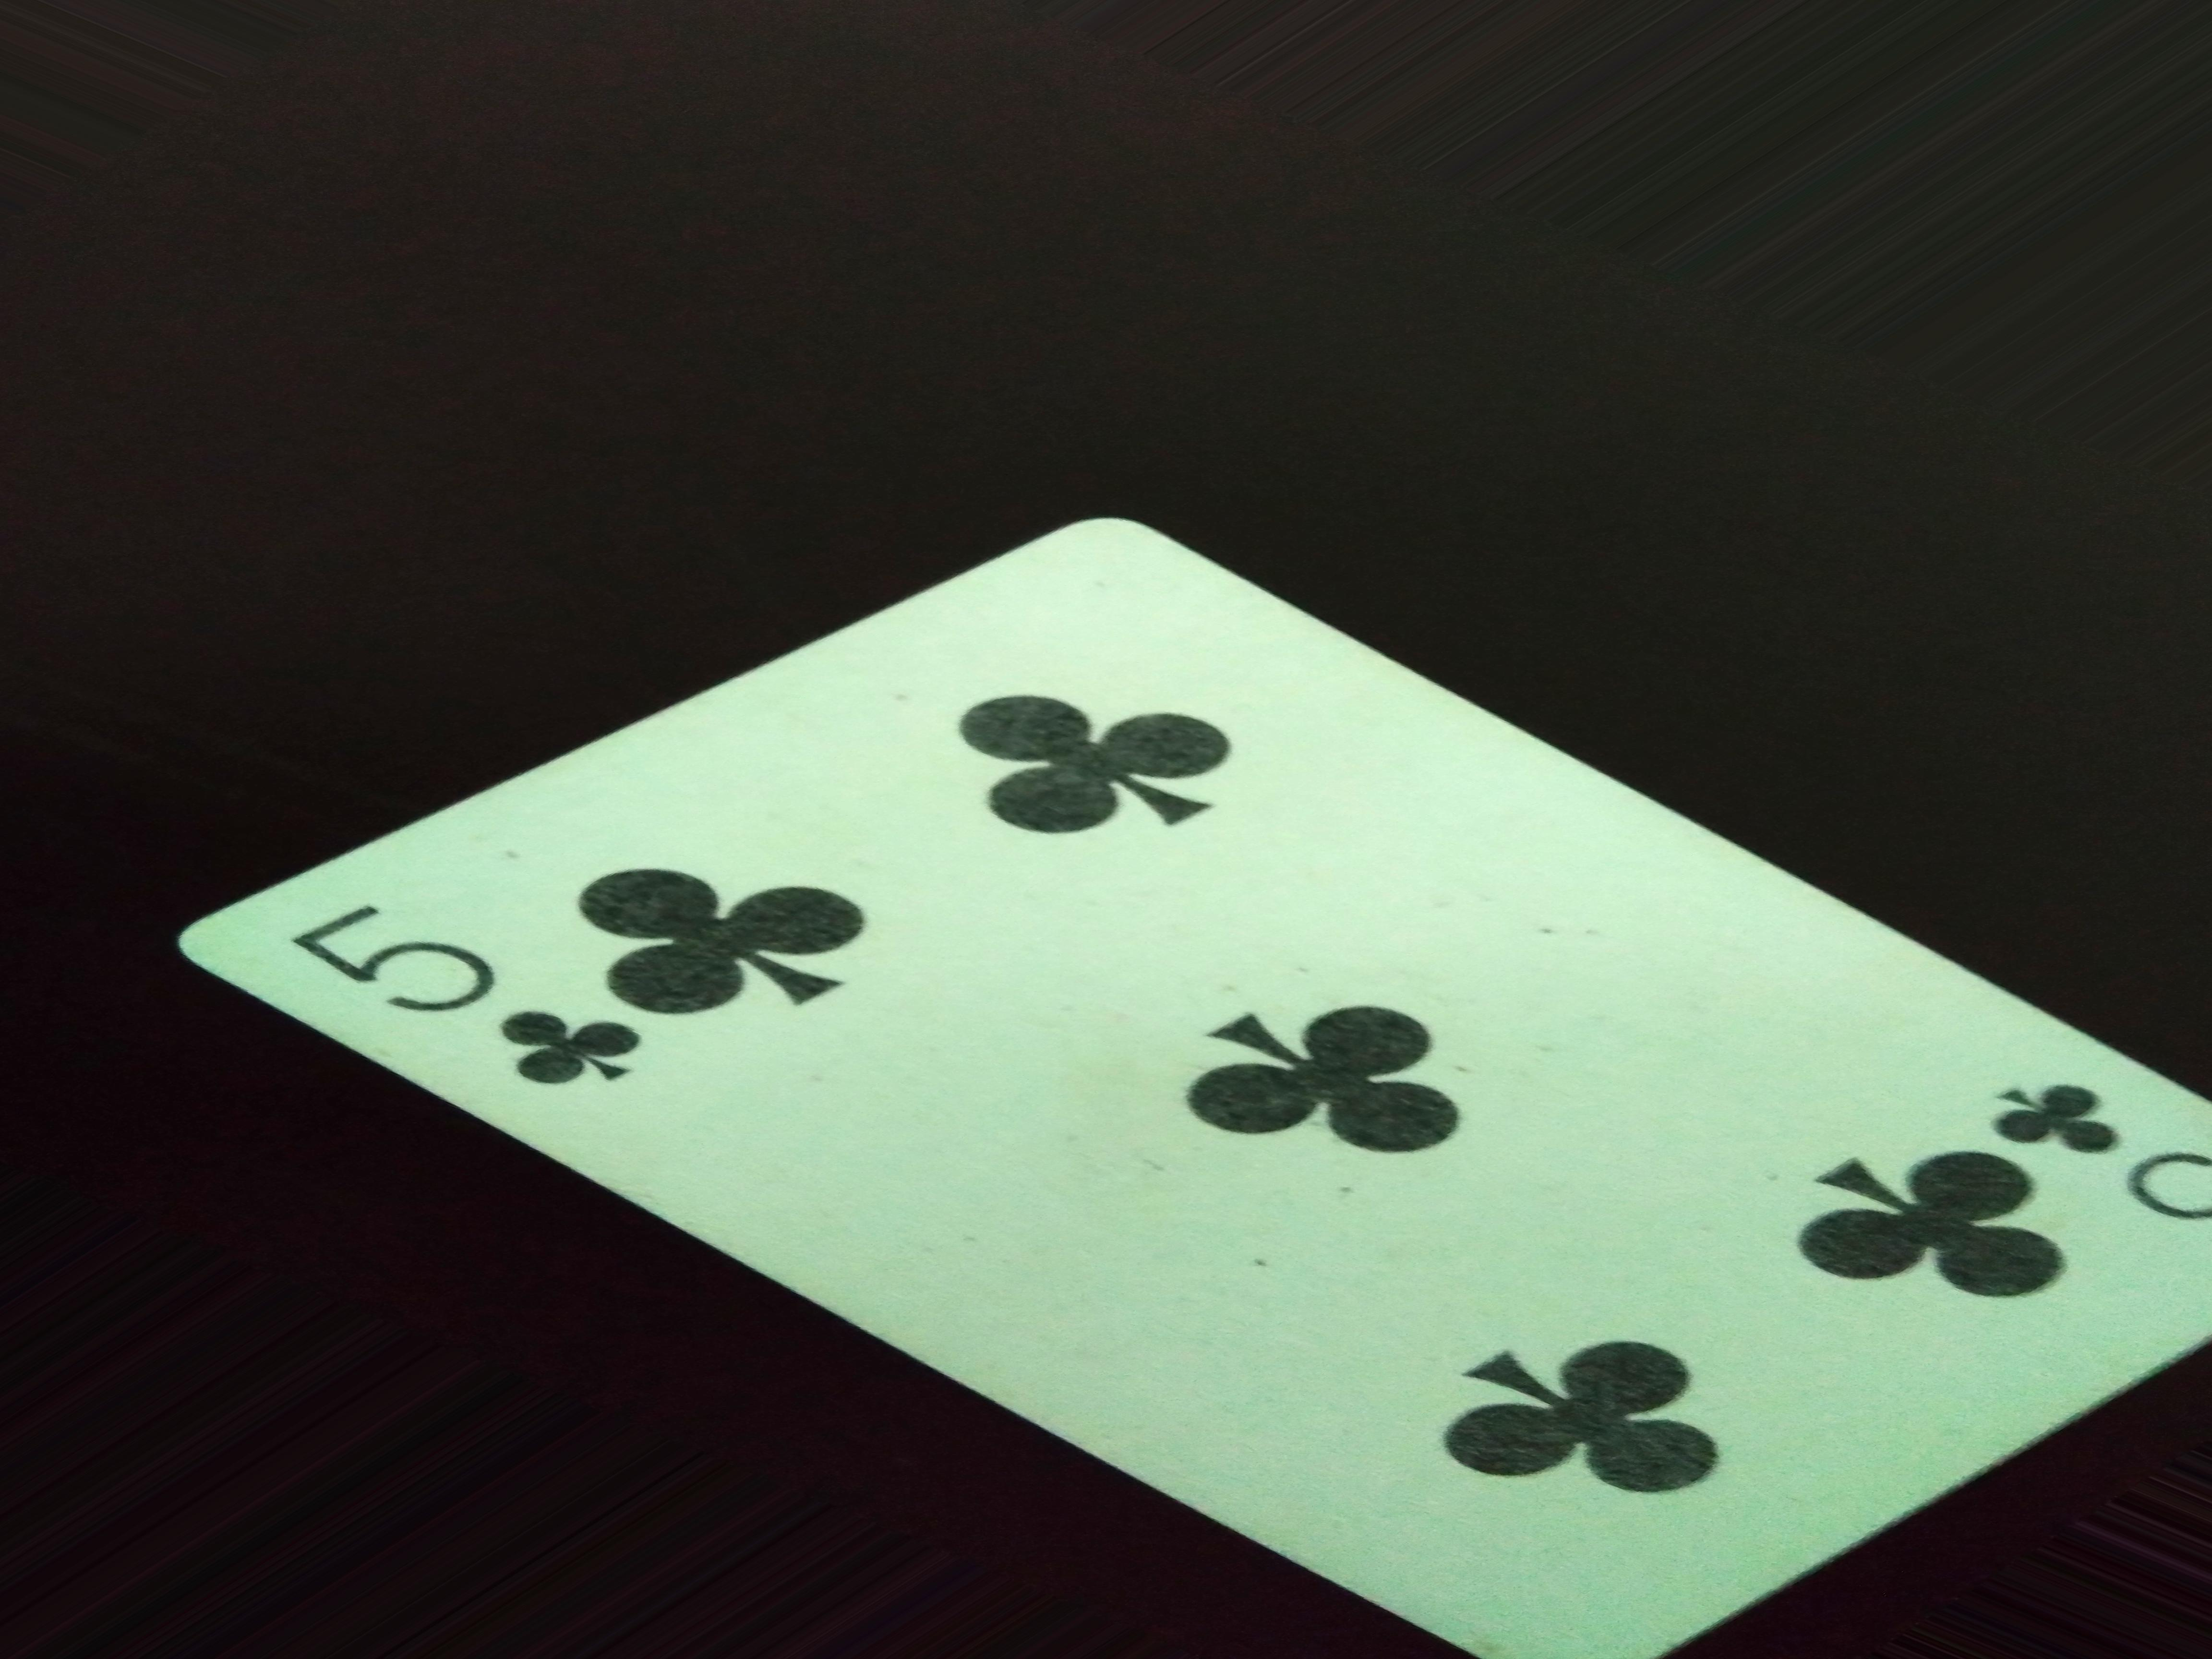5C: (261, 892, 648, 1121)
